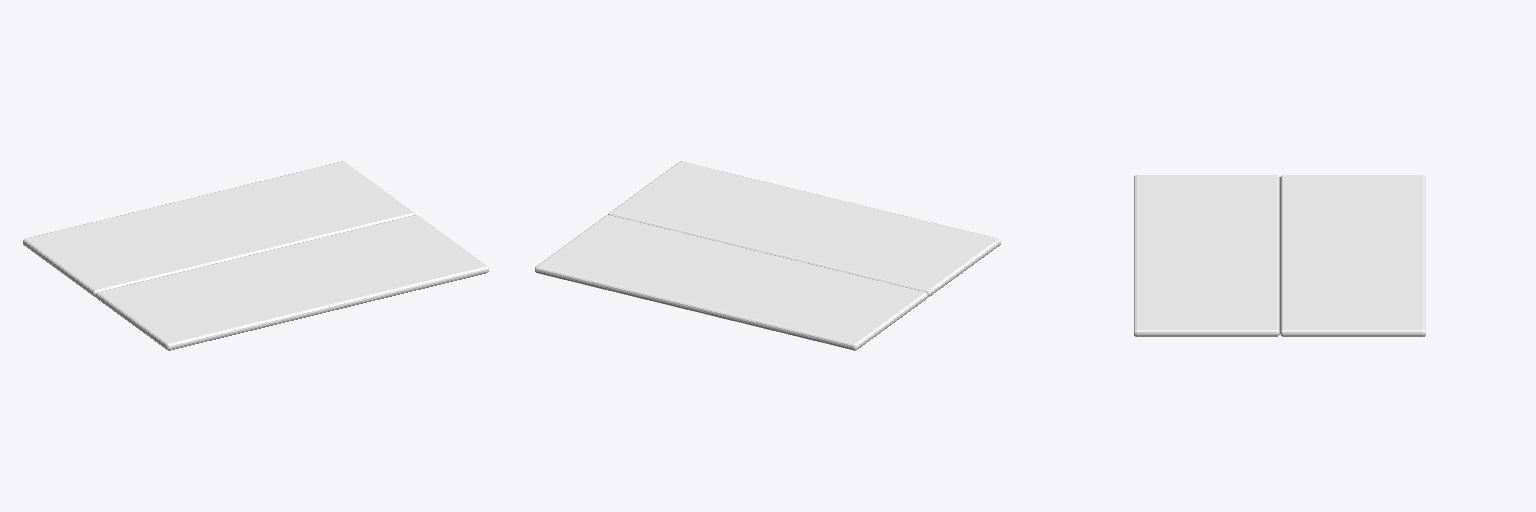
The model's file is welding_plates.obj.
3 views of the same model, side by side, from view 1: azimuth 30°, elevation 25°; view 2: azimuth 150°, elevation 25°; view 3: azimuth 270°, elevation 25° (orthographic).
Visible parts, largest first — view 1: obj2, obj1; view 2: obj1, obj2; view 3: obj1, obj2.
Boxes of the visible parts, x1,y1,x2,y2 form: obj2: [96, 215, 488, 350]; obj1: [23, 161, 415, 296]; obj1: [535, 215, 927, 350]; obj2: [608, 161, 1000, 296]; obj1: [1280, 175, 1425, 336]; obj2: [1134, 175, 1279, 336].
Bounding box in the file's own units: 0.2434 × 0.005 × 0.1909.